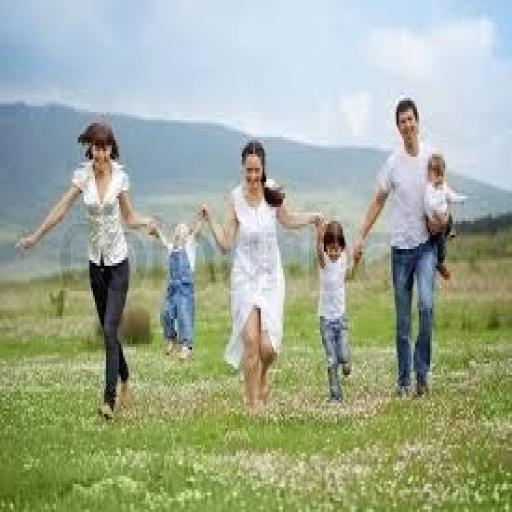running: (15, 118, 162, 422), (196, 137, 328, 417), (350, 95, 462, 400), (311, 215, 365, 406), (145, 207, 207, 364)
